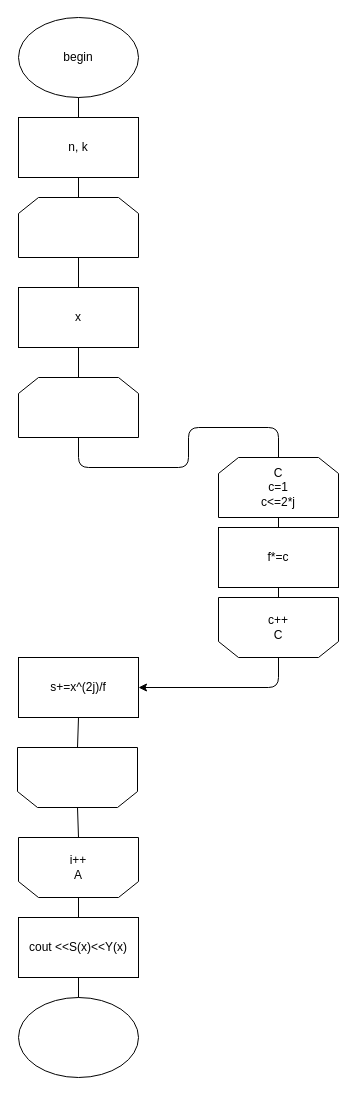
Image size: 356x1095. Some labels were removed from this diagram. The shapes that lost their labels are listed below. From the top down, each one's centre as x and y in pixels, then its label:
At point (78, 227): "A i=0 i<k".
At point (78, 407): "B j=1 j<=n".
At point (77, 777): "j++ B".
At point (78, 1037): "end".
